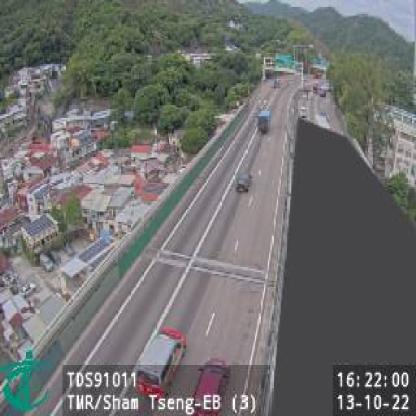Car: (132, 327, 187, 401), (186, 358, 230, 416), (236, 170, 252, 192)
Truck: (257, 109, 271, 134)
